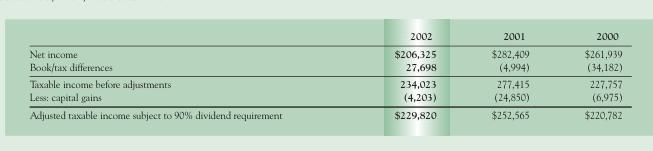table: (28, 29, 621, 119)
table column: (28, 29, 337, 119), (337, 29, 463, 119), (463, 29, 556, 119), (556, 29, 621, 119)
table column header: (28, 29, 621, 44)
table row: (28, 89, 621, 105), (28, 29, 621, 44), (28, 44, 621, 59), (28, 59, 621, 74), (28, 74, 621, 89), (28, 105, 621, 119)
